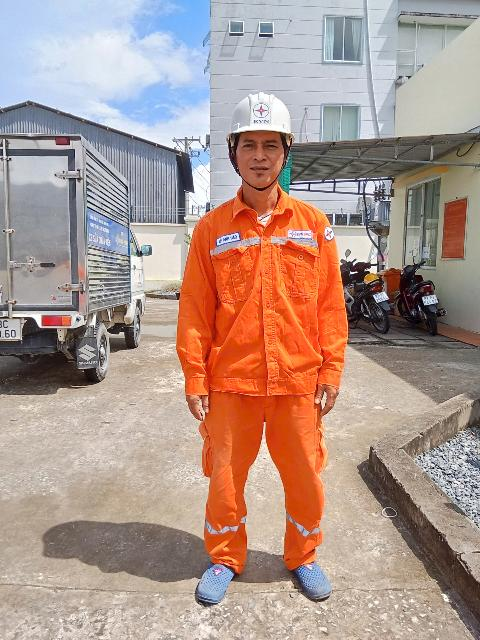helmet: (213, 84, 310, 156)
shoes: (186, 538, 248, 610), (281, 542, 344, 602)
